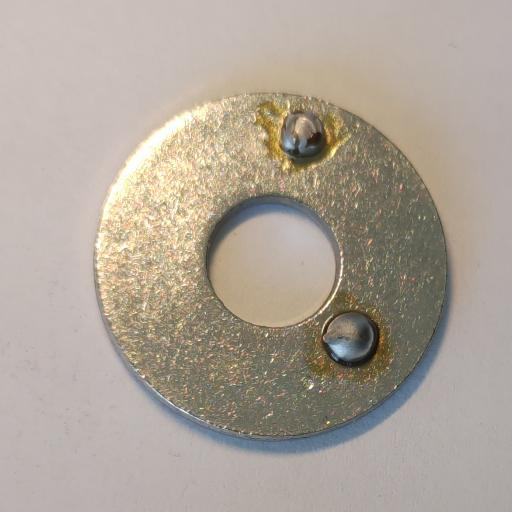excess_material: (322, 311, 375, 362), (280, 110, 325, 160)
